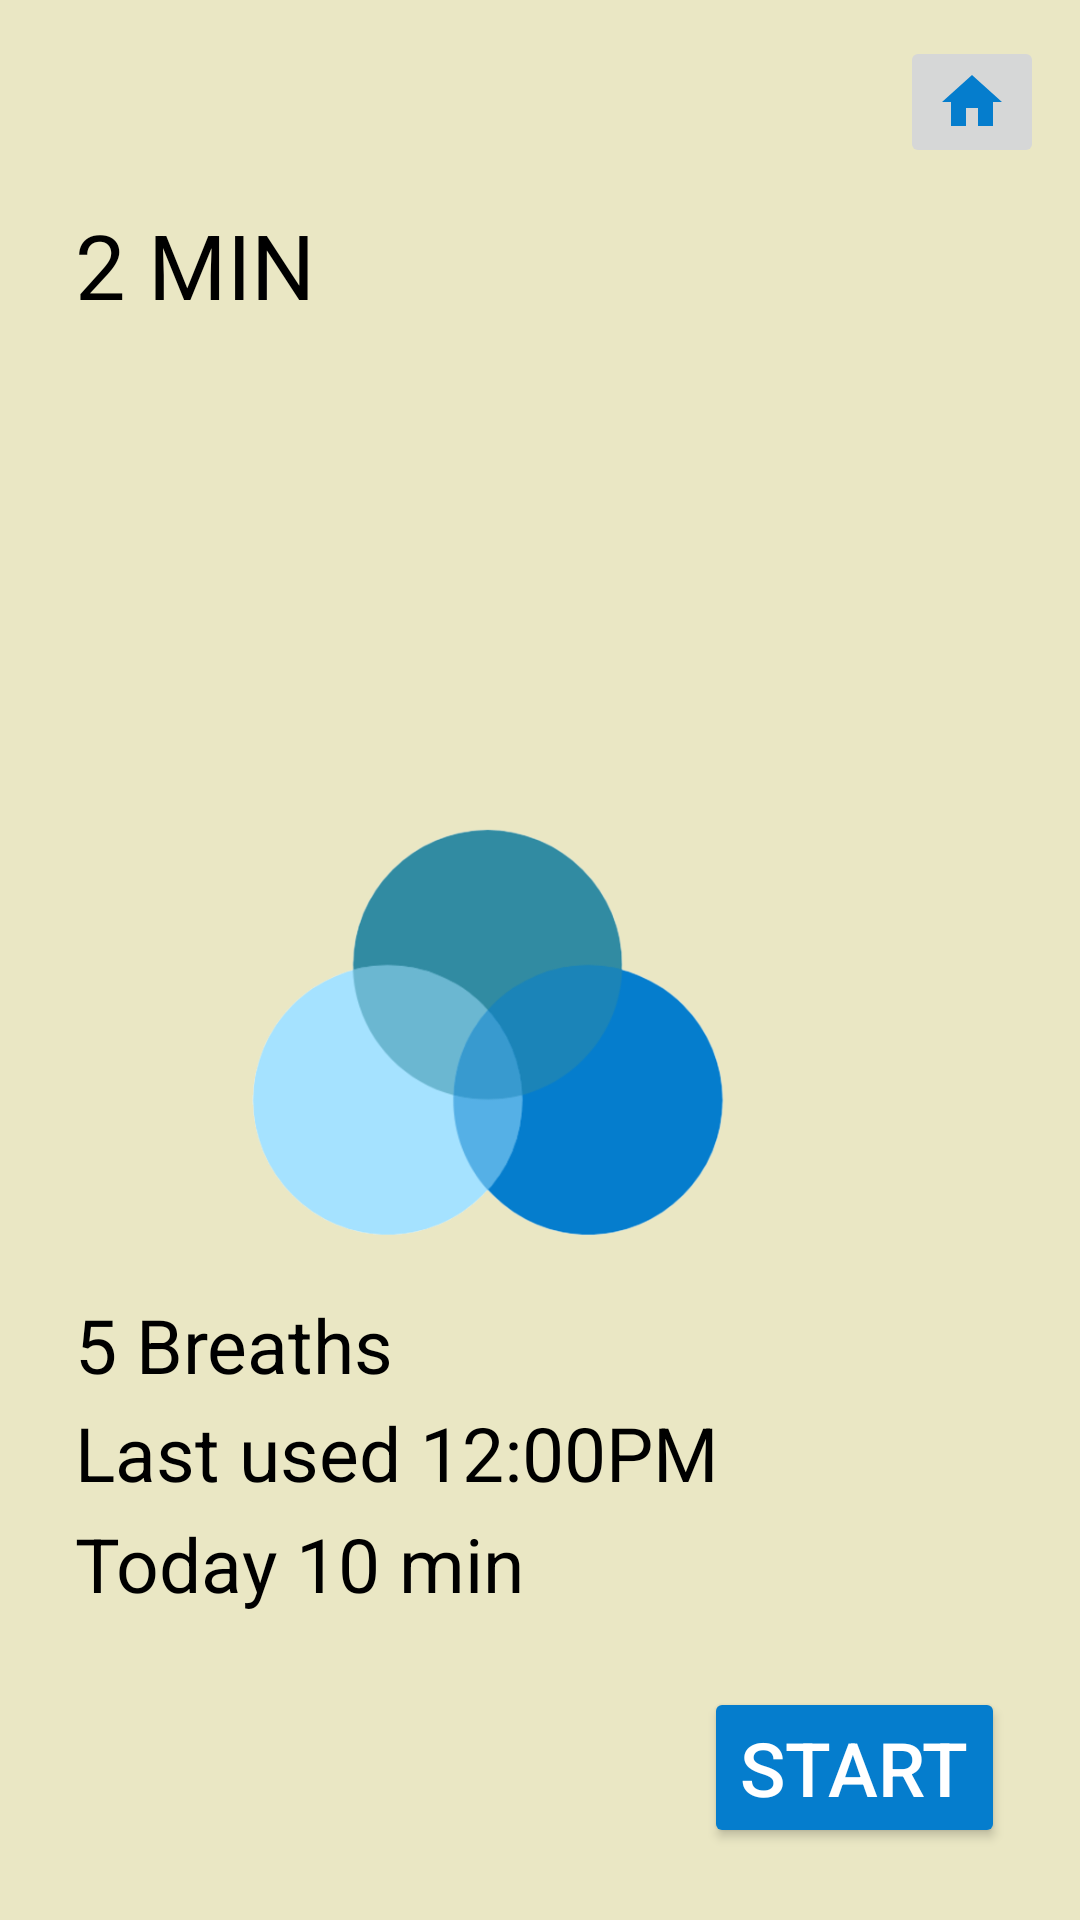

Icons on this 1080×1920 Android screen, each with its box as detection(x1, y1, x2, y2):
home: detection(942, 75, 1002, 126)
